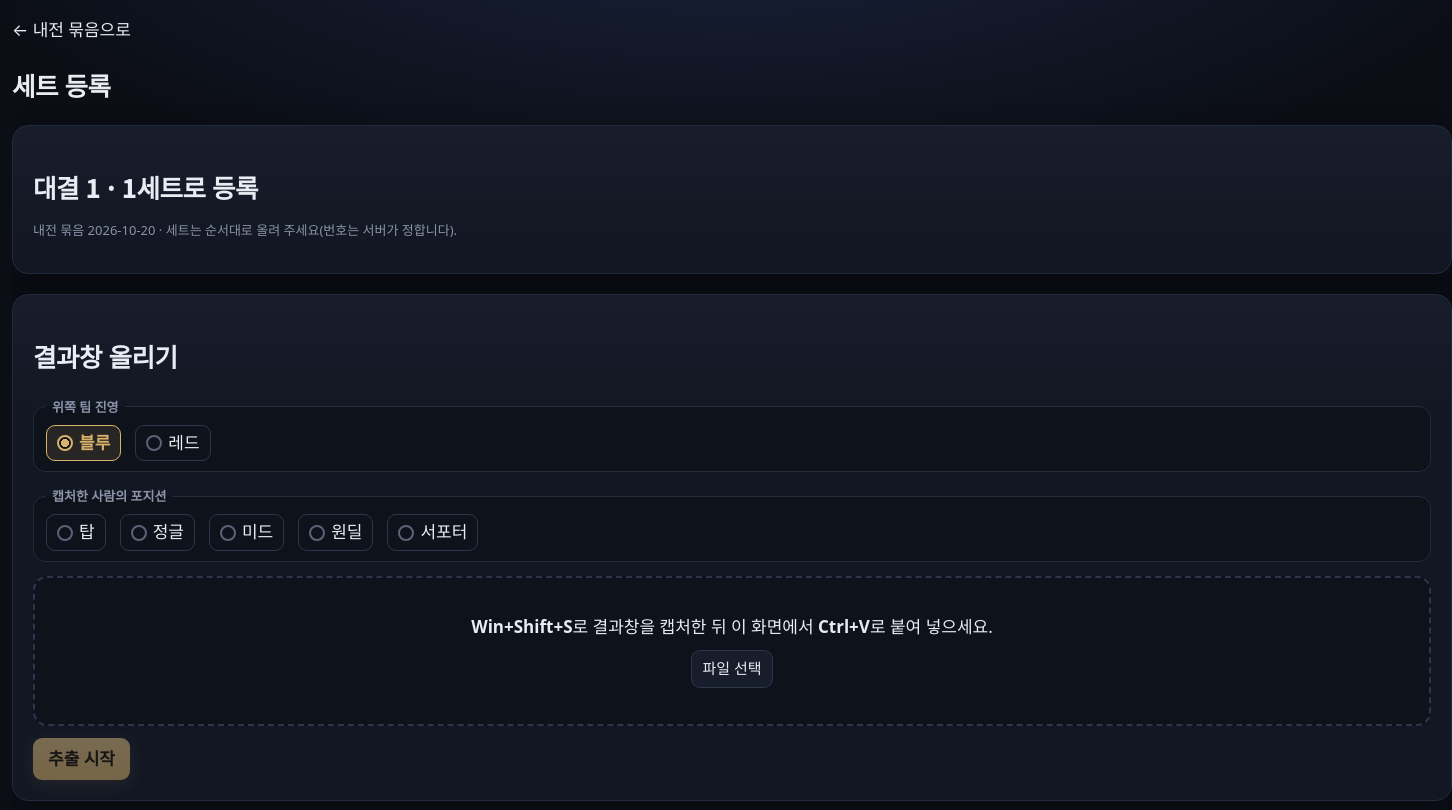
Test: SetRegisterPage › 확인 단계에서는 beforeunload를 막는다
The image size is (1452, 810).
Expected: the heading "대결 1 · 1세트로 등록" is shown, 33,168 -> 258,205
Click the radio button labelled "원딜". click: (317, 533)
box: 309,525 -> 325,541
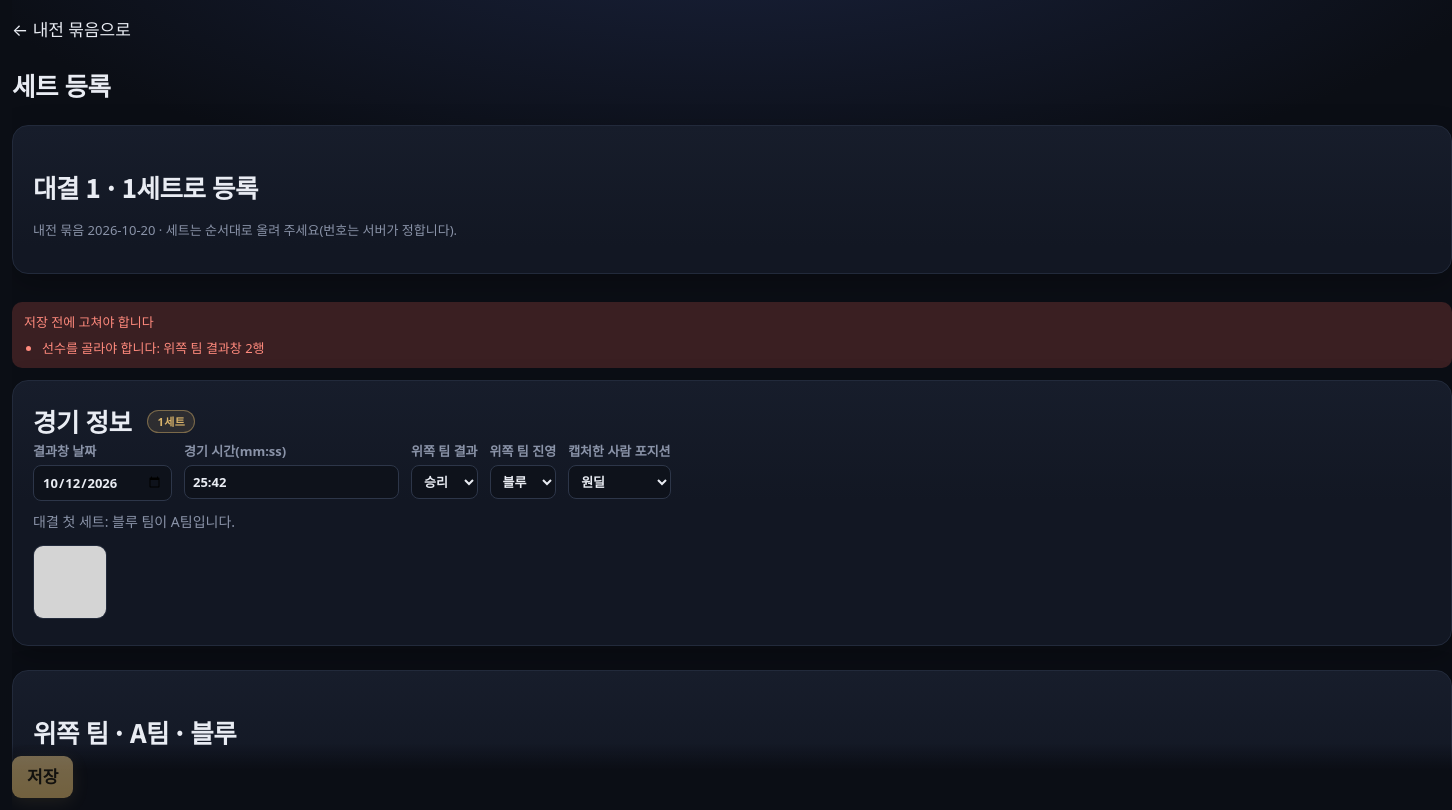
Result: the heading "경기 정보" is shown at 33,401 -> 131,441
